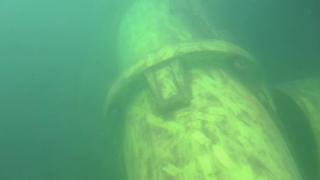pipe: (102, 1, 303, 180), (268, 80, 320, 180)
